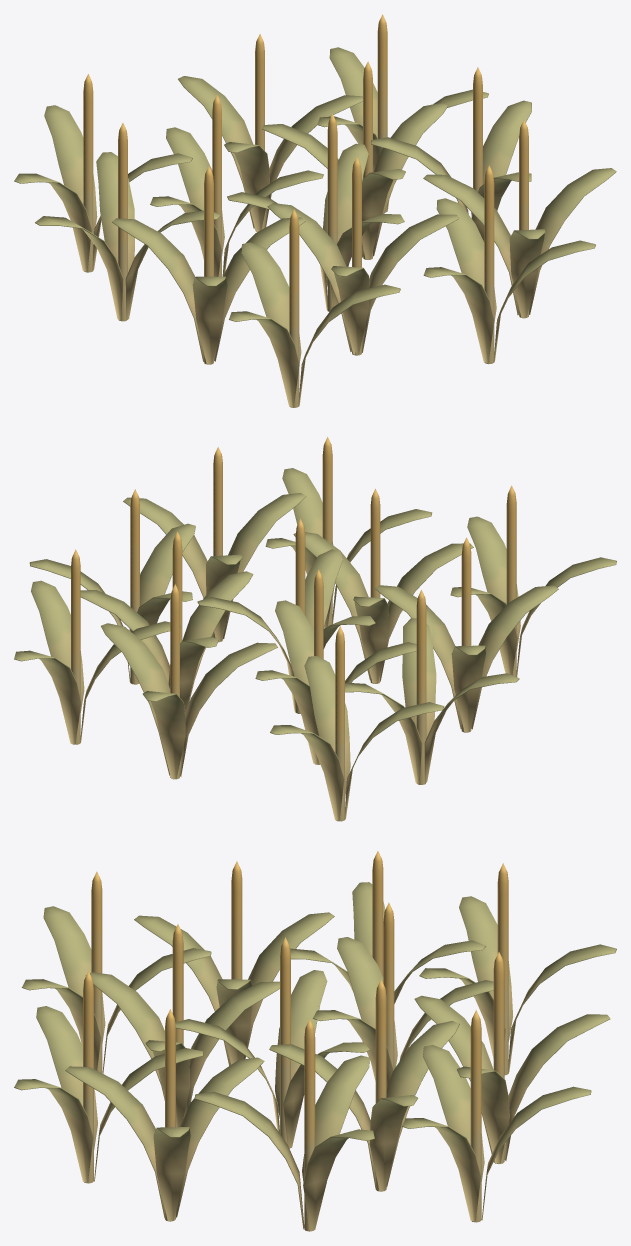
File: Wheat_STAGE1.fbx
The picture shows the model from 3 angles, top to bottom: view 1: azimuth 30°, elevation 25°; view 2: azimuth 150°, elevation 25°; view 3: azimuth 270°, elevation 25°; orthographic projection. The views are drawn at different scales.
Visible parts, largest first — view 1: Wheat_STAGE1; view 2: Wheat_STAGE1; view 3: Wheat_STAGE1.
Part boxes in pixels (left/top/right/bottom): Wheat_STAGE1: left=14, top=14, right=616, bottom=407; Wheat_STAGE1: left=14, top=437, right=616, bottom=821; Wheat_STAGE1: left=14, top=851, right=616, bottom=1231.
Bounding box in the file's own units: 1.15 × 1.16 × 0.4417.
Materials: 1 (1 with a texture image).
